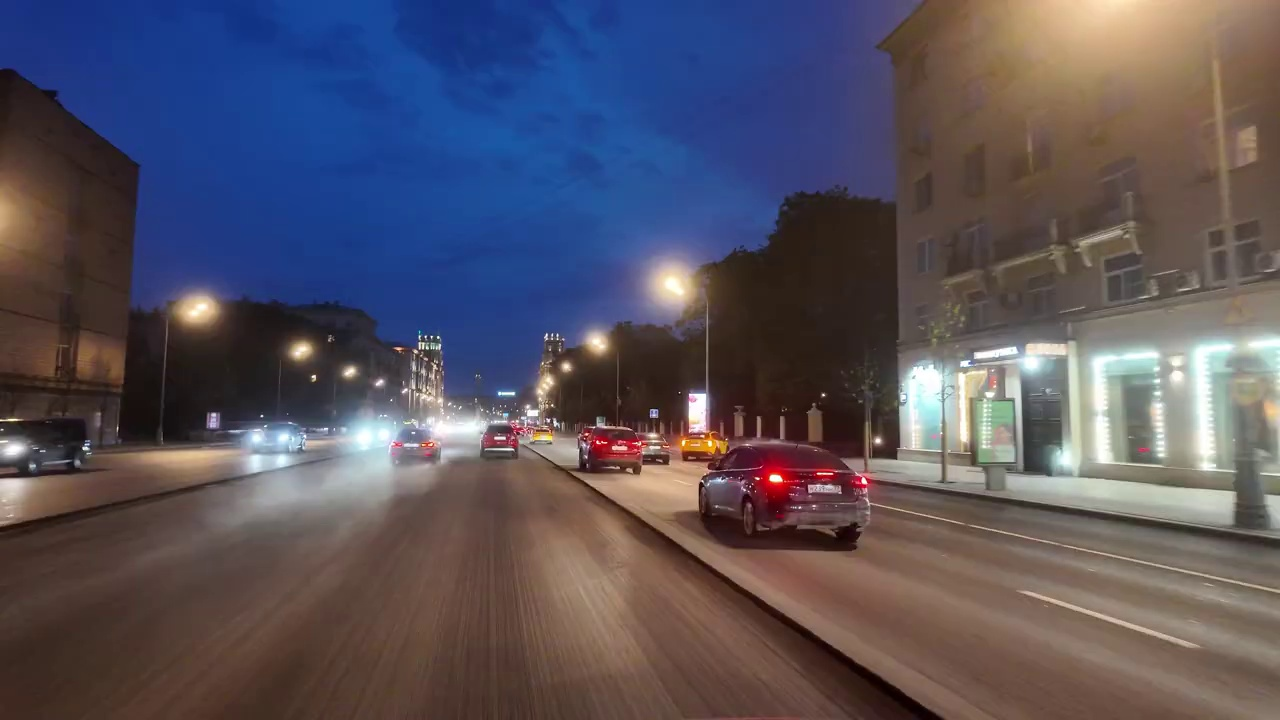acesa: (655, 267, 695, 305), (176, 294, 218, 328), (286, 337, 316, 365), (585, 331, 613, 358), (1, 197, 10, 243)
